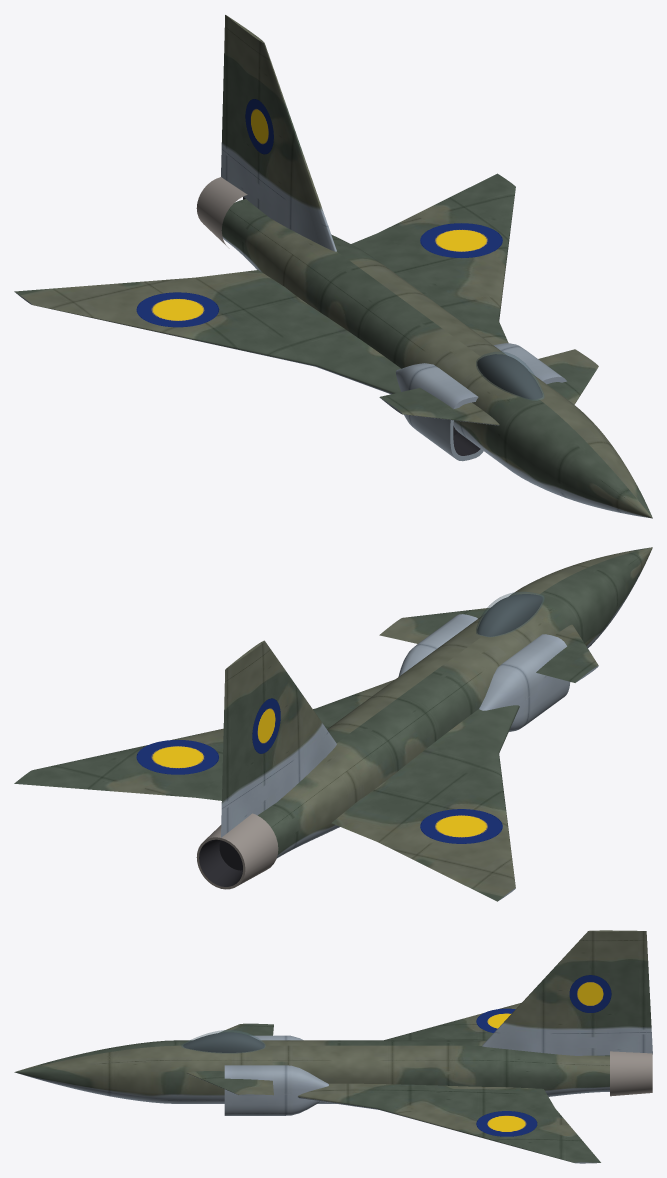
3 renders of one model, top to bottom at view 1: azimuth 30°, elevation 25°; view 2: azimuth 150°, elevation 25°; view 3: azimuth 270°, elevation 25°, orthographic. The views are drawn at different scales.
Parts seen in each view (by area): view 1: Fuselage, Wing0_R, Fin2, Wing0_L, Intake_R, Decal_Wing_U_R, Decal_Wing_U_L, Canard1_R, Canopy, Cockpit, Canard1_L, Nozzle (+2 smaller); view 2: Fuselage, Wing0_R, Fin2, Wing0_L, Intake_R, Nozzle, Decal_Wing_U_R, Decal_Wing_U_L, Canopy, Canard1_R, Cockpit, Canard1_L (+2 smaller); view 3: Fuselage, Fin2, Wing0_L, Intake_L, Nozzle, Wing0_R, Canopy, Decal_Fin_b, Decal_Wing_U_L, Cockpit, Canard1_L, Decal_Wing_U_R (+1 smaller).
Part boxes in pixels (x1,y1,x2,y2): Fuselage: (221, 199, 652, 518); Wing0_R: (14, 270, 400, 394); Fin2: (221, 15, 336, 251); Wing0_L: (351, 173, 515, 345); Intake_R: (396, 363, 483, 461); Decal_Wing_U_R: (136, 292, 219, 327); Decal_Wing_U_L: (420, 223, 502, 257); Canard1_R: (379, 388, 499, 425); Canopy: (476, 352, 544, 400); Cockpit: (477, 354, 542, 399); Canard1_L: (538, 349, 598, 404); Nozzle: (196, 177, 247, 248); Fuselage: (258, 547, 652, 858); Wing0_R: (331, 705, 519, 901); Fin2: (221, 640, 336, 837); Wing0_L: (14, 679, 394, 800); Intake_R: (479, 634, 570, 731); Nozzle: (196, 813, 278, 889); Decal_Wing_U_R: (420, 809, 502, 843); Decal_Wing_U_L: (136, 739, 218, 774); Canopy: (476, 592, 544, 636); Canard1_R: (536, 624, 598, 682); Cockpit: (477, 594, 542, 636); Canard1_L: (379, 608, 489, 643); Fuselage: (14, 1040, 609, 1103); Fin2: (482, 930, 652, 1055); Wing0_L: (298, 1083, 600, 1163); Intake_L: (224, 1065, 328, 1115); Nozzle: (610, 1051, 652, 1096); Wing0_R: (384, 1003, 520, 1040); Canopy: (181, 1030, 265, 1053); Decal_Fin_b: (569, 975, 611, 1012); Decal_Wing_U_L: (476, 1111, 537, 1136); Cockpit: (183, 1032, 264, 1052); Canard1_L: (187, 1071, 273, 1095); Decal_Wing_U_R: (476, 1008, 515, 1032).
Bounding box in the file's own units: 10.6 × 4.75 × 16.41.
6 materials, 2 textured.
